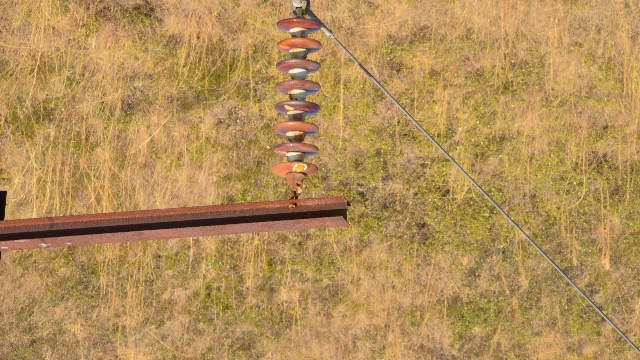insulator_unspecified: (270, 18, 323, 177)
pollution_flashover_local: (292, 162, 308, 173), (274, 149, 289, 155), (284, 104, 294, 111), (279, 44, 291, 49)
